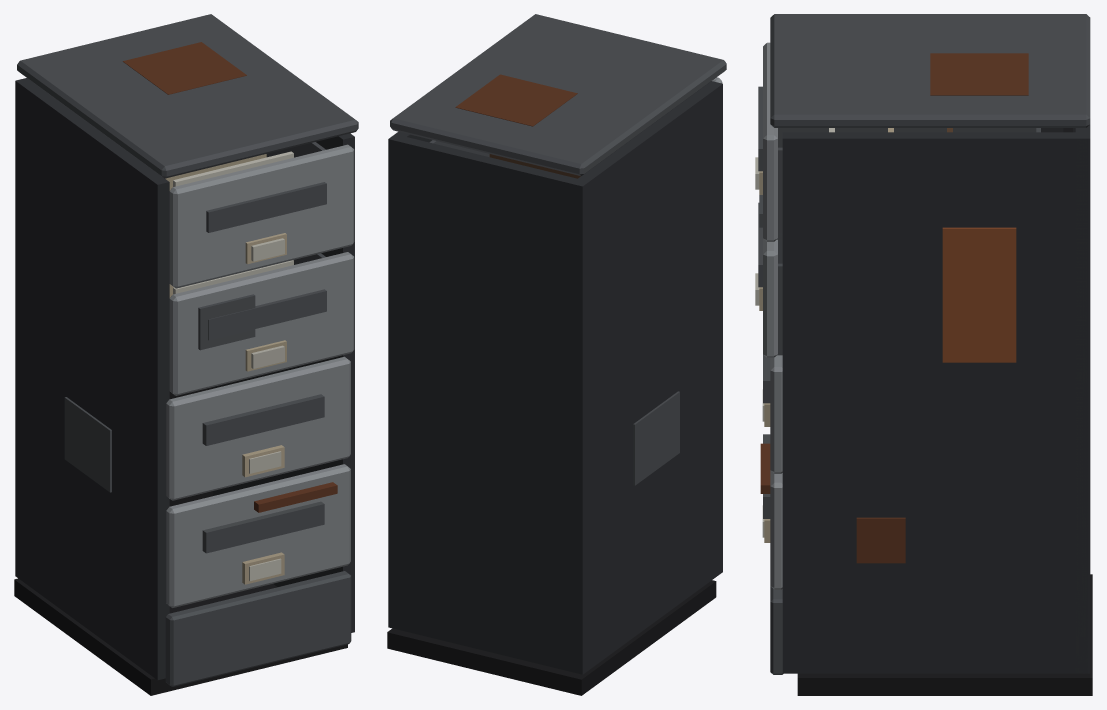
Rendered from furn_filing_cabinet.fbx.
3 views of the same model, side by side, from view 1: azimuth 30°, elevation 25°; view 2: azimuth 150°, elevation 25°; view 3: azimuth 270°, elevation 25° (orthographic). The views are drawn at different scales.
Parts seen in each view (by area): view 1: furn_filing_cabinet, Drawer_1, Drawer_2; view 2: furn_filing_cabinet, Drawer_1; view 3: furn_filing_cabinet, Drawer_1, Drawer_2.
Part boxes in pixels (left/top/right/bottom): furn_filing_cabinet: left=14, top=14, right=358, bottom=695; Drawer_1: left=165, top=142, right=354, bottom=288; Drawer_2: left=169, top=252, right=354, bottom=395; furn_filing_cabinet: left=387, top=14, right=726, bottom=695; Drawer_1: left=429, top=77, right=722, bottom=178; furn_filing_cabinet: left=759, top=14, right=1092, bottom=695; Drawer_1: left=755, top=42, right=1040, bottom=241; Drawer_2: left=755, top=202, right=782, bottom=357.
Size of the model in its own units: 0.51 by 1.3 by 0.686.
